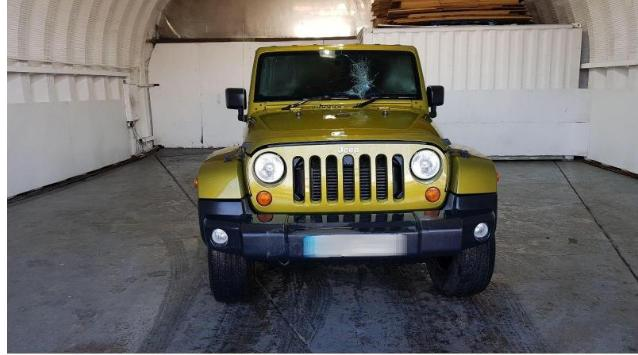Fender: (447, 142, 498, 194), (198, 145, 246, 199)
Front-bumper: (197, 190, 498, 265)
Front-wheel: (424, 235, 495, 297), (208, 250, 257, 304)
Grille: (243, 143, 449, 213)
Headlight: (409, 148, 442, 180), (253, 152, 286, 183)
Hood: (243, 108, 449, 156)
License-plate: (304, 235, 407, 257)
Mirror: (225, 88, 247, 121), (426, 85, 444, 120)
Roof: (257, 44, 416, 53)
Windshield: (254, 50, 422, 102)
